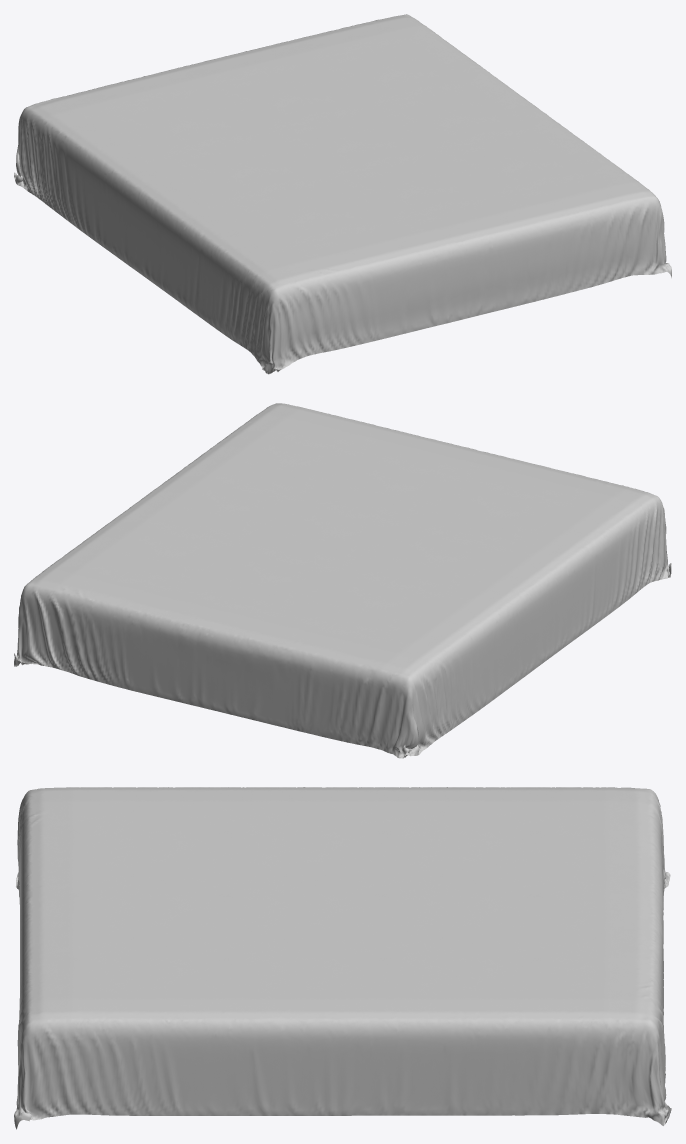
The picture shows the model from 3 angles, top to bottom: view 1: azimuth 30°, elevation 25°; view 2: azimuth 150°, elevation 25°; view 3: azimuth 270°, elevation 25°; orthographic projection. The views are drawn at different scales.
Visible parts, largest first — view 1: sheet.001; view 2: sheet.001; view 3: sheet.001.
Part boxes in pixels (x1,y1,x2,y2): sheet.001: (14, 14, 671, 374); sheet.001: (14, 403, 671, 758); sheet.001: (14, 787, 671, 1129).
Bounding box in the file's own units: 1.72 × 0.3491 × 1.94.
Materials: 1 (1 with a texture image).
